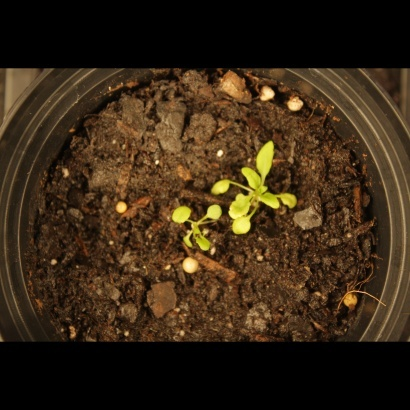leaf: (255, 135, 278, 179), (225, 194, 253, 221), (237, 166, 264, 192), (166, 201, 194, 225), (208, 175, 236, 198), (201, 200, 226, 225), (171, 228, 194, 251), (197, 230, 220, 253), (229, 214, 252, 237), (279, 190, 302, 213), (260, 191, 283, 214)
